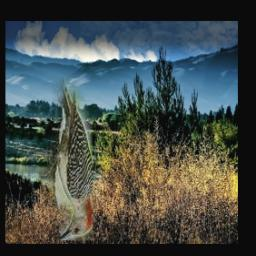Woodpecker: (40, 75, 94, 240)
